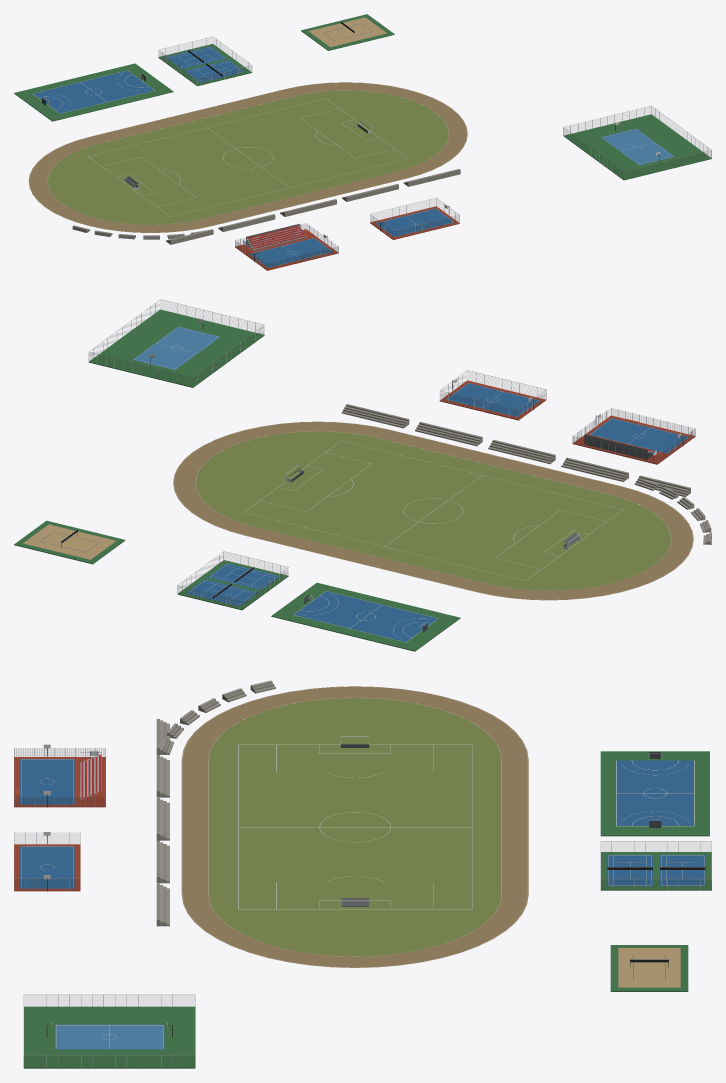
Rendered from athletic-oval.glb.
3 views of the same model, one above another, from view 1: azimuth 30°, elevation 25°; view 2: azimuth 150°, elevation 25°; view 3: azimuth 270°, elevation 25° (orthographic). The views are drawn at different scales.
Parts seen in each view (by area): view 1: Athletic Oval; view 2: Athletic Oval; view 3: Athletic Oval.
Boxes of the visible parts, box(x1,y1,x2,y2) form: Athletic Oval: box(14, 14, 711, 270); Athletic Oval: box(14, 299, 711, 651); Athletic Oval: box(14, 680, 711, 1068).
Bounding box in the file's own units: 232 × 4.15 × 179.
Materials: 5 (4 with a texture image).
